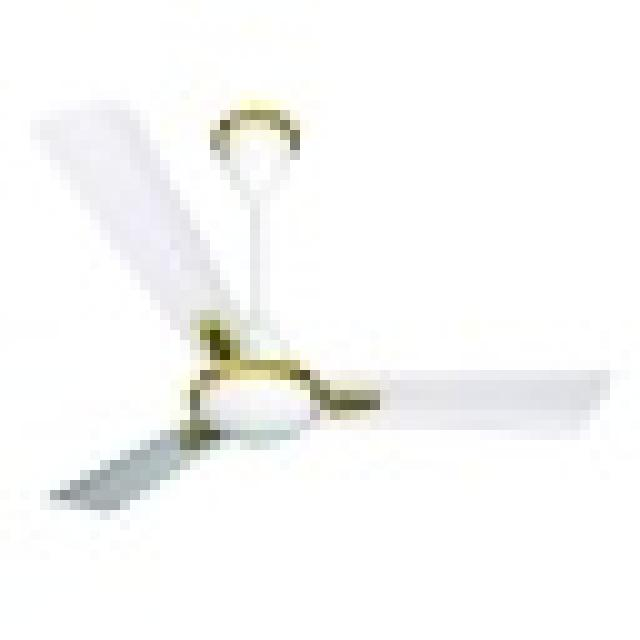Bulb: (59, 153, 608, 539)
